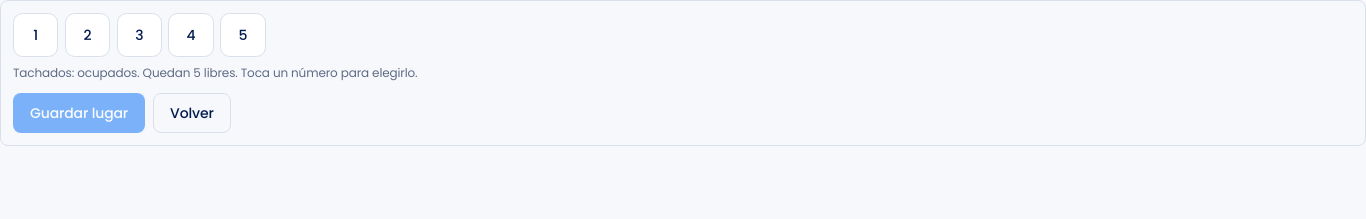
cambiar mi lugar › si alguien lo tomó antes, lo dice y vuelve a cargar los libres
Click the button "3": (139, 35) [117,13,162,57]
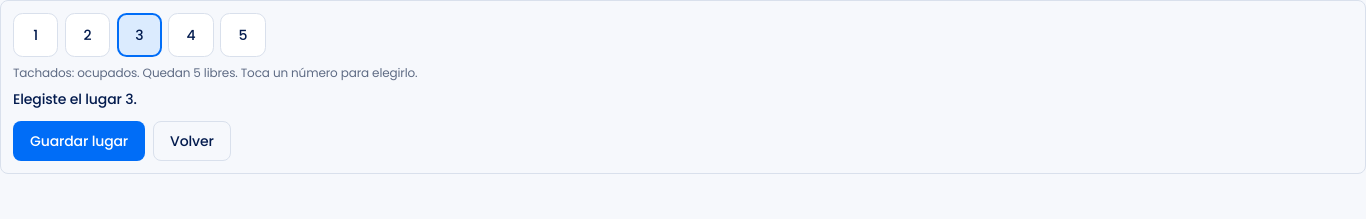
Click the button "Guardar lugar": (79, 141) [13,121,145,161]
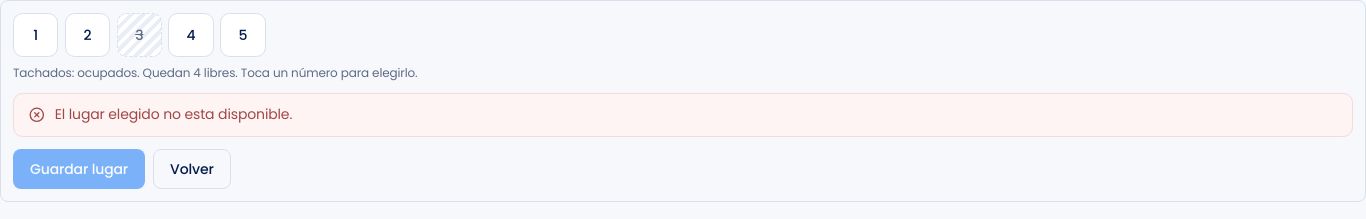
Expected: the message "El lugar elegido no esta disponible." is shown, [13,93,1353,137]
Expected: the button "3" is disabled, [117,13,162,57]
